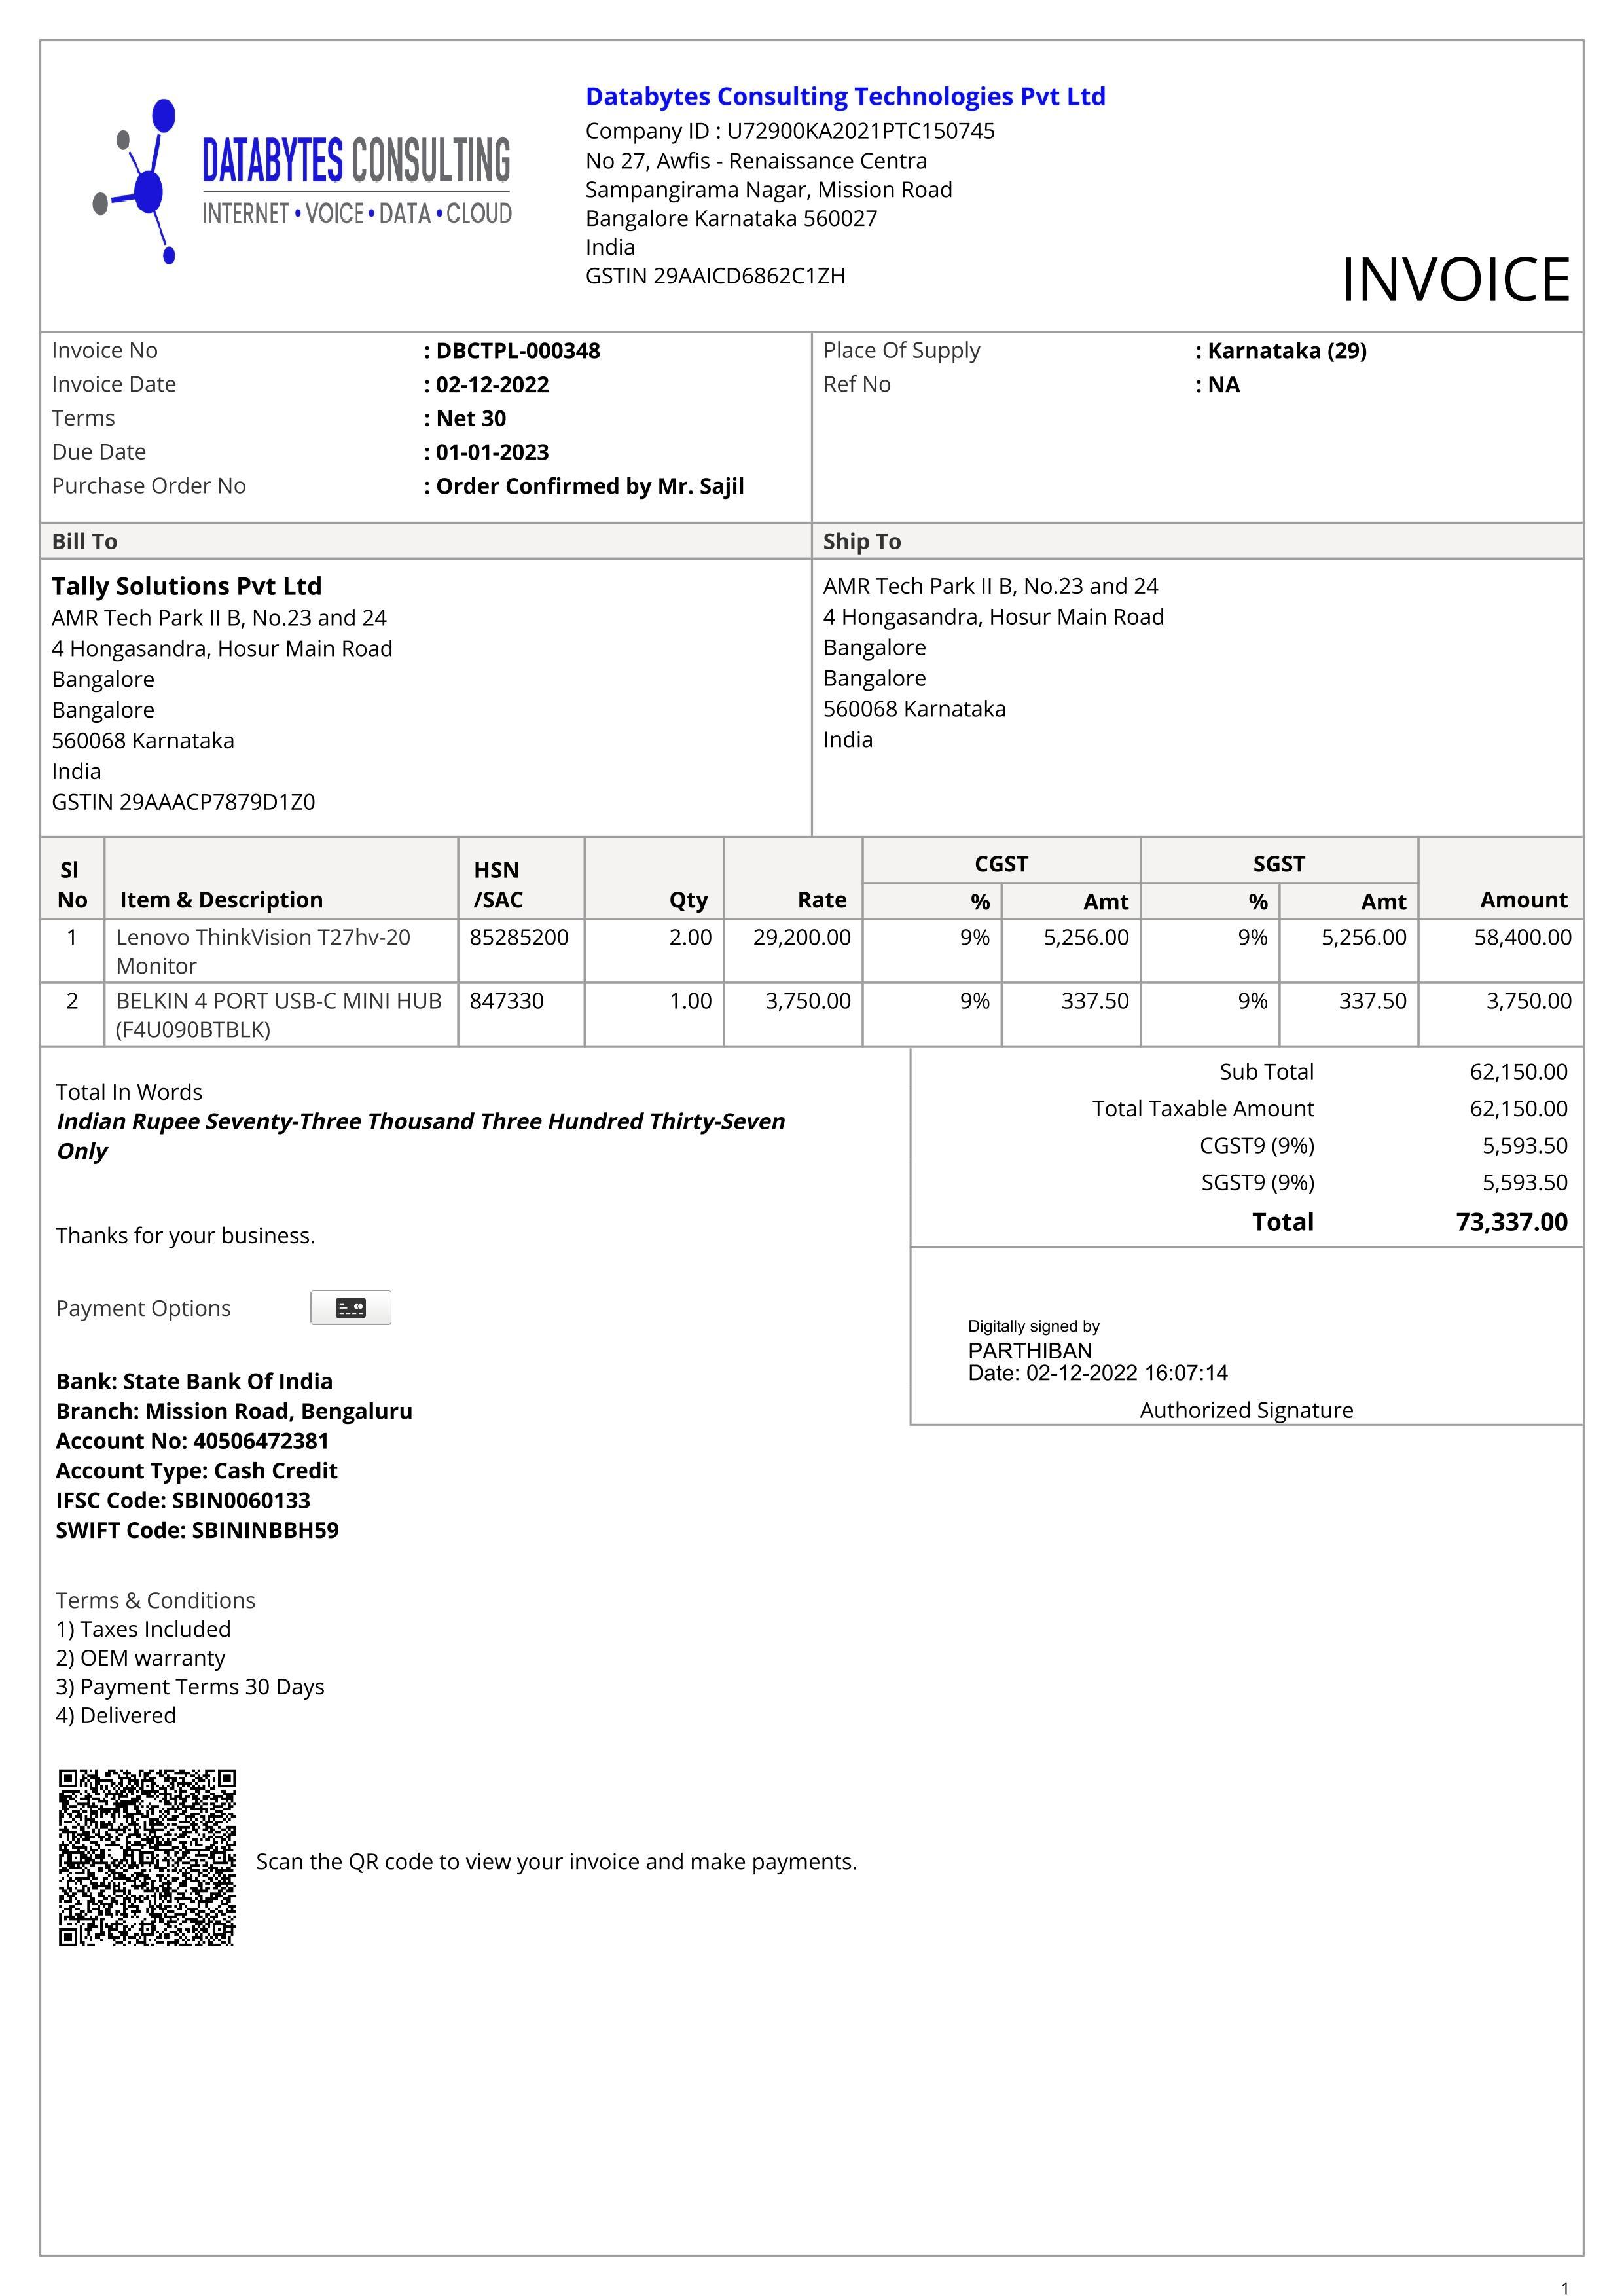InvoiceDate: (432, 373, 554, 399)
InvoiceNumber: (431, 332, 610, 364)
TotalAmount: (1445, 1204, 1573, 1239)
